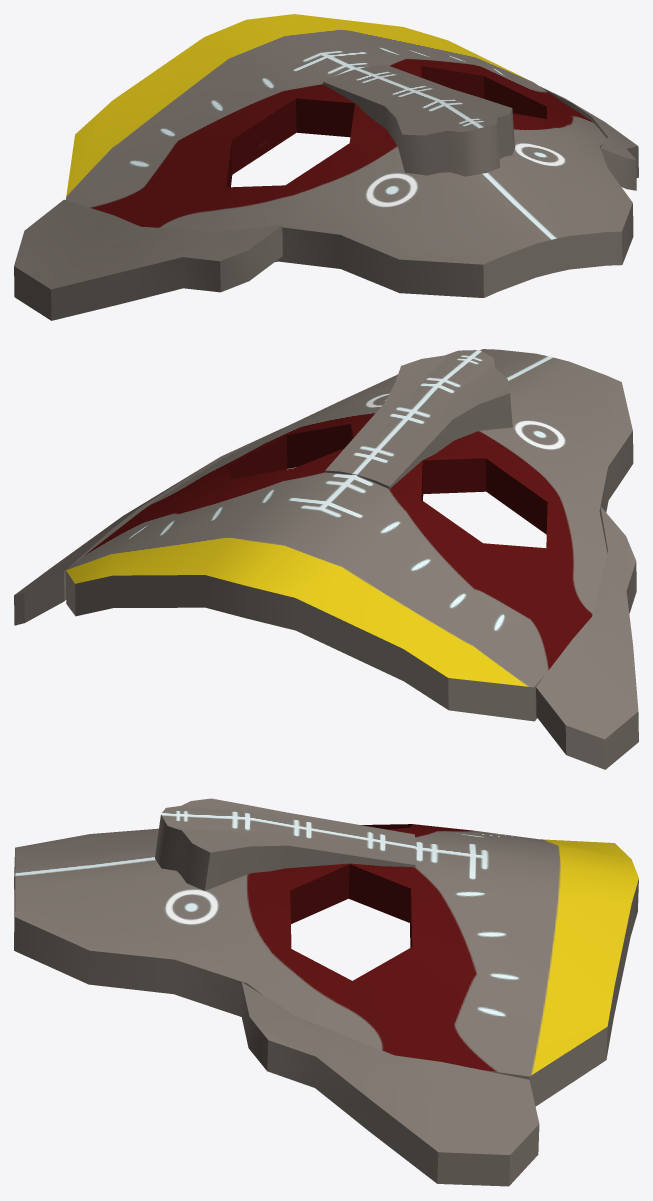
File: MASKRA.fbx
3 renders of one model, top to bottom at view 1: azimuth 30°, elevation 25°; view 2: azimuth 150°, elevation 25°; view 3: azimuth 270°, elevation 25°, orthographic.
Parts seen in each view (by area): view 1: pPlane8_polySurface1_polySurface1; view 2: pPlane8_polySurface1_polySurface1; view 3: pPlane8_polySurface1_polySurface1.
Part boxes in pixels (x1,y1,x2,y2): pPlane8_polySurface1_polySurface1: (14,14,638,320); pPlane8_polySurface1_polySurface1: (14,349,638,769); pPlane8_polySurface1_polySurface1: (14,798,638,1186).
Size of the model in its own units: 6.27 by 2.25 by 5.64.
1 material, 1 textured.
